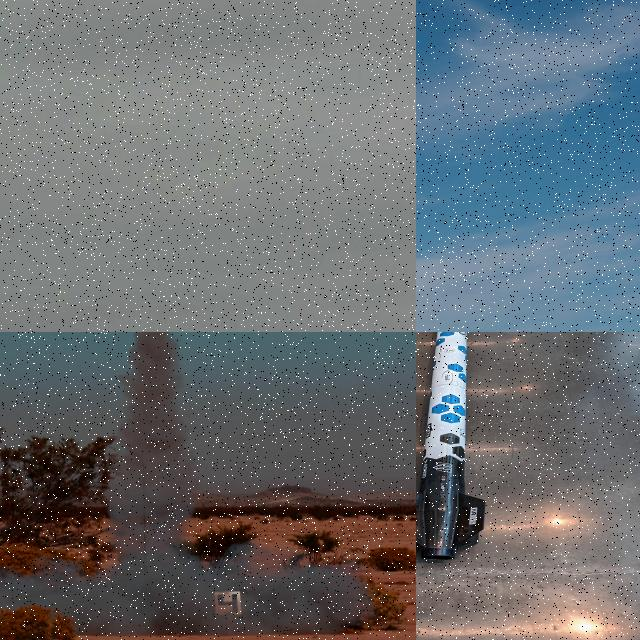Rocket: (416, 332, 486, 560)
